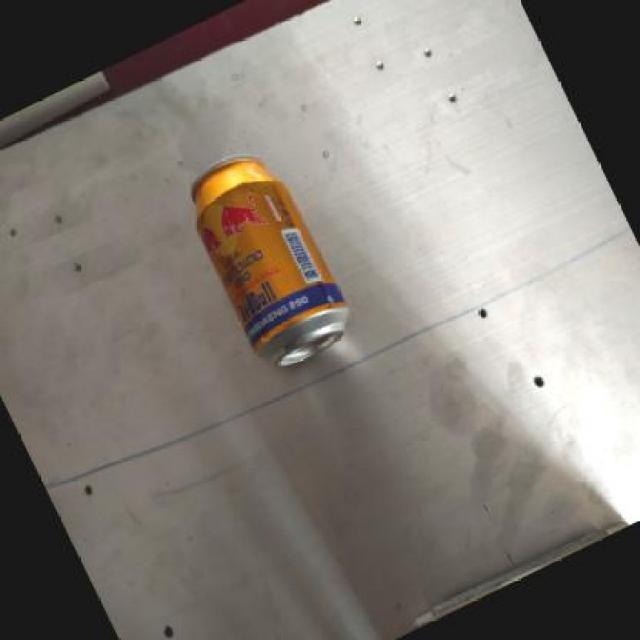recyclable: (163, 127, 374, 396)
